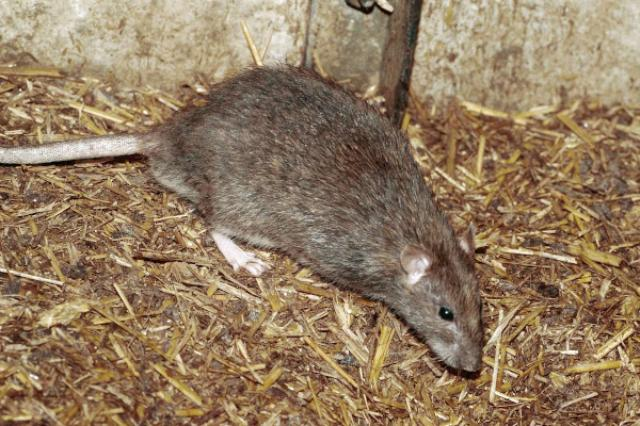rat: (47, 55, 495, 380)
